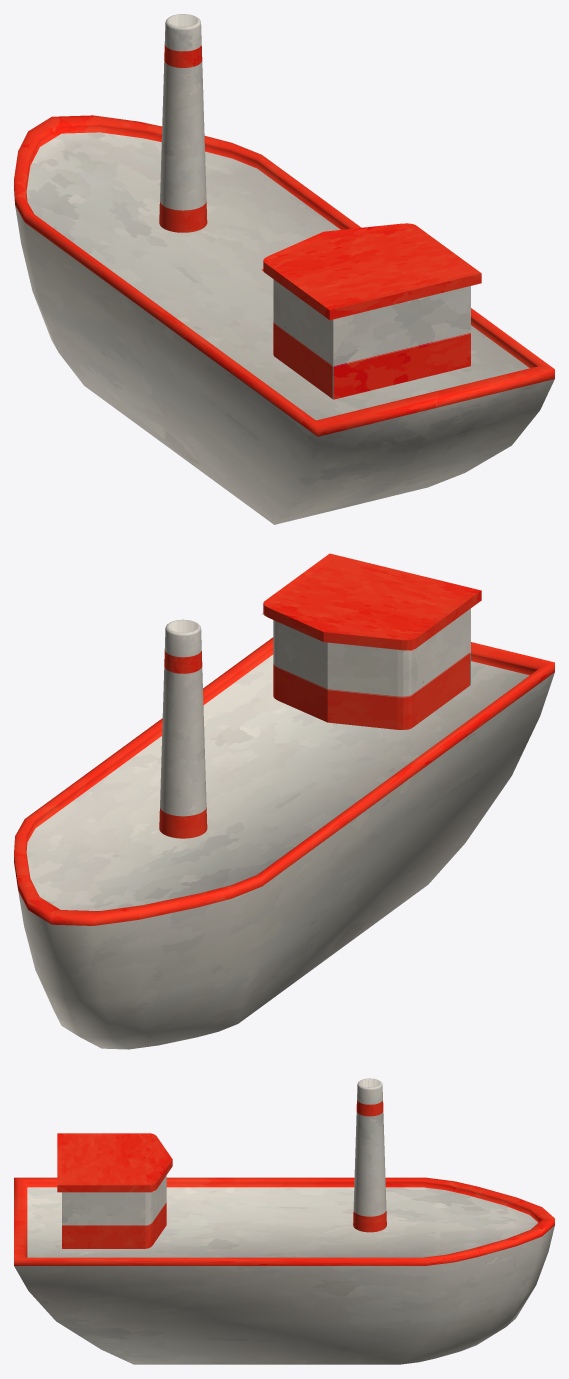
The model's file is boat.fbx.
The picture shows the model from 3 angles, top to bottom: view 1: azimuth 30°, elevation 25°; view 2: azimuth 150°, elevation 25°; view 3: azimuth 270°, elevation 25°; orthographic projection. The views are drawn at different scales.
Visible parts, largest first — view 1: Plane; view 2: Plane; view 3: Plane.
Boxes of the visible parts, x1,y1,x2,y2 form: Plane: [14, 14, 554, 524]; Plane: [14, 553, 554, 1049]; Plane: [14, 1078, 554, 1364].
Size of the model in its own units: 360 by 525 by 1010.
